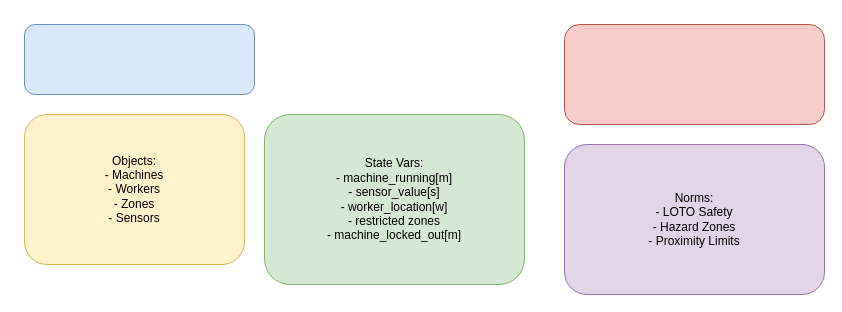
Some shapes in this 842 by 312 pixel diagram are drawn without their labels. Each missing label, with the centre of its shape:
"Agents: • MaintenanceBot • HumanTechnician" goes at (x=694, y=74).
"Environment: Factory" goes at (x=139, y=59).
